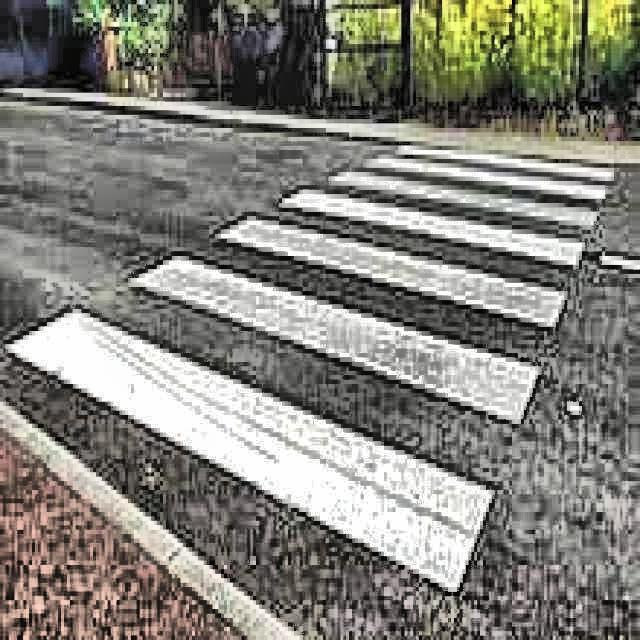faixa de pedestre: (8, 139, 611, 594)
